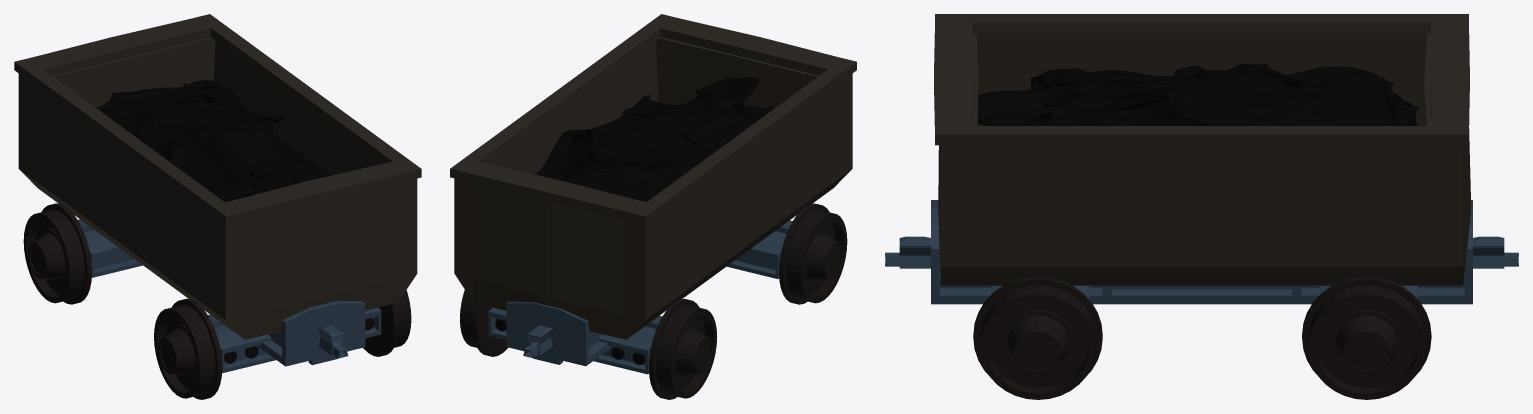
The model's file is MineCart.obj.
The picture shows the model from 3 angles, left to right: view 1: azimuth 30°, elevation 25°; view 2: azimuth 150°, elevation 25°; view 3: azimuth 270°, elevation 25°; orthographic projection. The views are drawn at different scales.
Parts seen in each view (by area): view 1: Cube, Cube.004_Cube.003, Cylinder.002_Cylinder, Cylinder, Cube.001, Cube.003_Cube.002, Cylinder.003_Cylinder, Cube.002, Cylinder.006_Cylinder.001; view 2: Cube, Cube.004_Cube.003, Cylinder.002_Cylinder, Cylinder, Cube.001, Cube.002, Cylinder.001_Cylinder, Cube.003_Cube.002, Cylinder.005_Cylinder.001; view 3: Cube, Cube.004_Cube.003, Cylinder.001_Cylinder, Cylinder.003_Cylinder, Cube.001.
Boxes of the visible parts, x1=… form: Cube: x1=14, y1=14, x2=421, y2=339; Cube.004_Cube.003: x1=96, y1=80, x2=331, y2=201; Cylinder.002_Cylinder: x1=154, y1=298, x2=222, y2=399; Cylinder: x1=23, y1=203, x2=91, y2=304; Cube.001: x1=257, y1=301, x2=365, y2=366; Cube.003_Cube.002: x1=208, y1=307, x2=381, y2=373; Cylinder.003_Cylinder: x1=363, y1=290, x2=411, y2=356; Cube.002: x1=78, y1=219, x2=142, y2=277; Cylinder.006_Cylinder.001: x1=224, y1=318, x2=374, y2=363; Cube: x1=450, y1=14, x2=856, y2=339; Cube.004_Cube.003: x1=534, y1=77, x2=773, y2=201; Cylinder.002_Cylinder: x1=779, y1=203, x2=847, y2=304; Cylinder: x1=648, y1=298, x2=716, y2=399; Cube.001: x1=506, y1=301, x2=612, y2=366; Cube.002: x1=488, y1=307, x2=662, y2=374; Cylinder.001_Cylinder: x1=460, y1=290, x2=508, y2=356; Cube.003_Cube.002: x1=727, y1=220, x2=792, y2=278; Cylinder.005_Cylinder.001: x1=495, y1=319, x2=645, y2=364; Cube: x1=934, y1=14, x2=1471, y2=285; Cube.004_Cube.003: x1=978, y1=63, x2=1418, y2=125; Cylinder.001_Cylinder: x1=1302, y1=276, x2=1431, y2=399; Cylinder.003_Cylinder: x1=973, y1=276, x2=1102, y2=399; Cube.001: x1=885, y1=200, x2=1518, y2=304.
Size of the model in its own units: 2.41 by 2.12 by 4.54.
